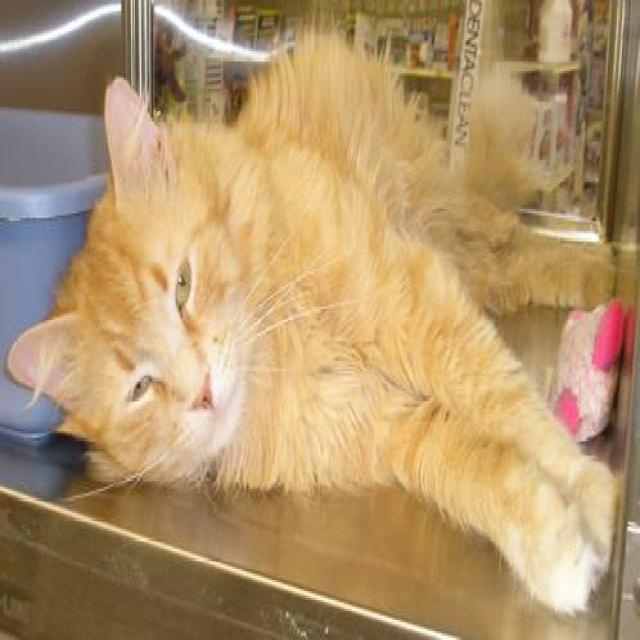cat: (5, 2, 621, 618)
